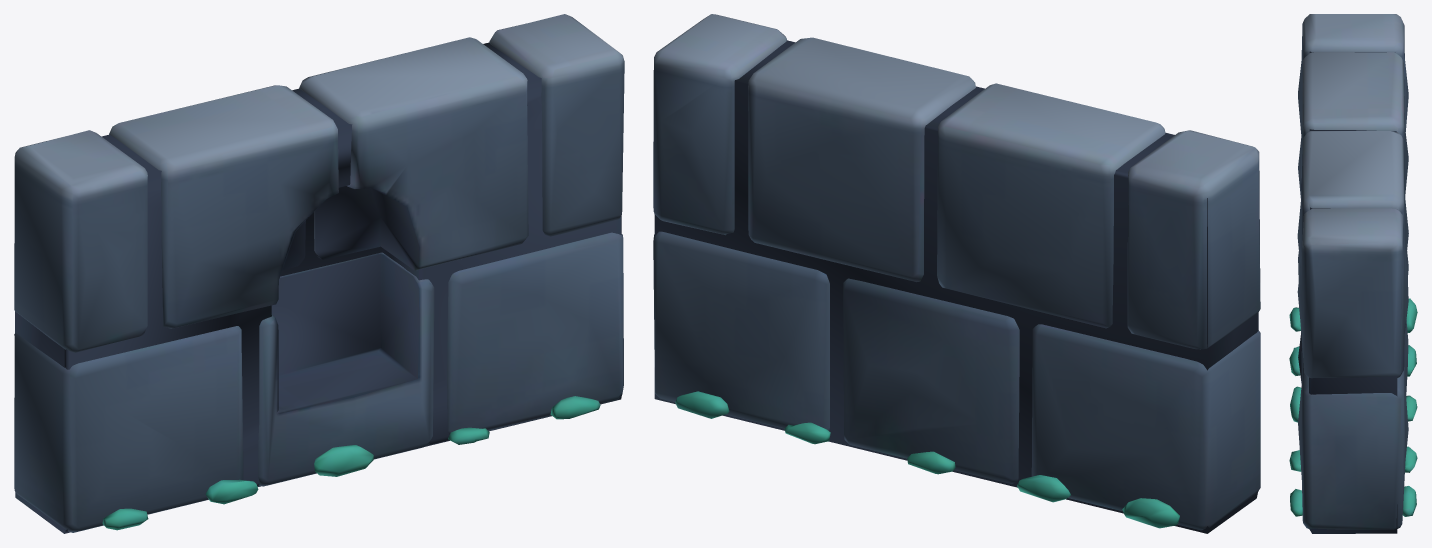
Rendered from wall-alcove.glb.
3 renders of one model, left to right at view 1: azimuth 30°, elevation 25°; view 2: azimuth 150°, elevation 25°; view 3: azimuth 270°, elevation 25°, orthographic. The views are drawn at different scales.
Parts seen in each view (by area): view 1: joint-bed; view 2: joint-bed; view 3: joint-bed.
Part boxes in pixels (box(x1,y1,x2,y2)): joint-bed: box(14, 14, 624, 533); joint-bed: box(653, 14, 1260, 533); joint-bed: box(1289, 14, 1417, 533).
Bounding box in the file's own units: 2.02 × 1.2 × 0.4696.
Materials: 1 (1 with a texture image).
